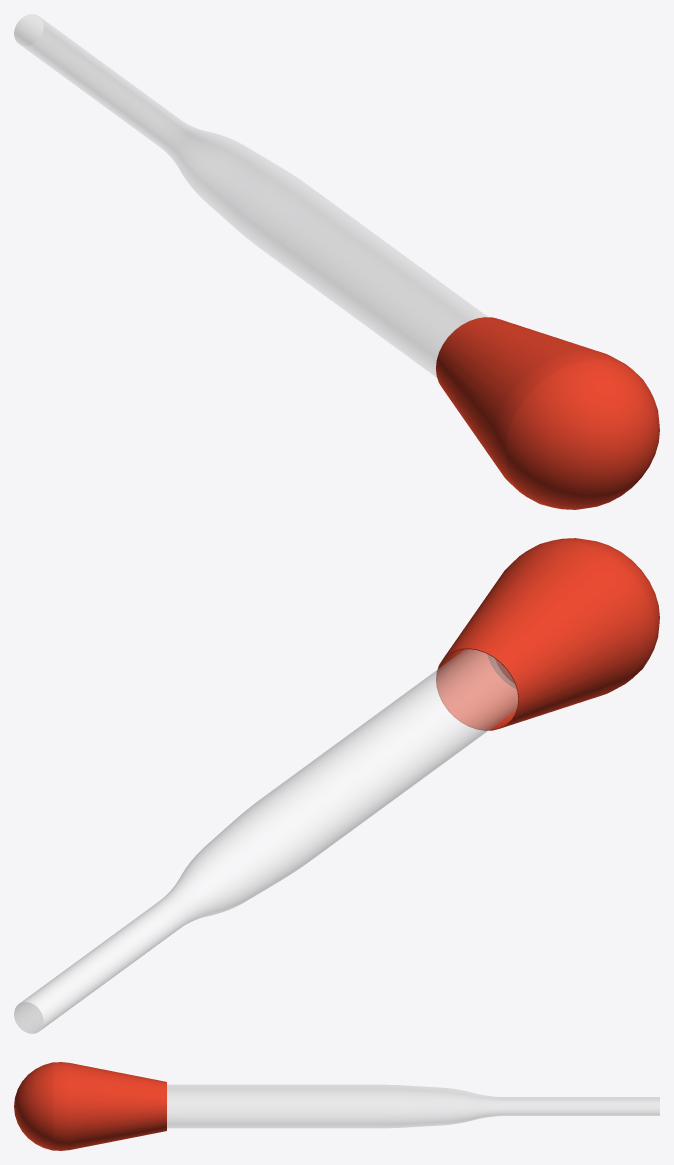
The model's file is pipet ukur.fbx.
3 views of the same model, one above another, from view 1: azimuth 30°, elevation 25°; view 2: azimuth 150°, elevation 25°; view 3: azimuth 270°, elevation 25° (orthographic). The views are drawn at different scales.
Visible parts, largest first — view 1: Sphere.002, Sphere.003; view 2: Sphere.002, Sphere.003; view 3: Sphere.002, Sphere.003.
Part boxes in pixels (x1,y1,x2,y2): Sphere.002: (14, 14, 487, 377); Sphere.003: (436, 317, 659, 509); Sphere.002: (14, 649, 518, 1033); Sphere.003: (436, 538, 659, 730); Sphere.002: (167, 1084, 659, 1128); Sphere.003: (14, 1062, 166, 1150).
Size of the model in its own units: 3.06 by 2.82 by 20.8.
